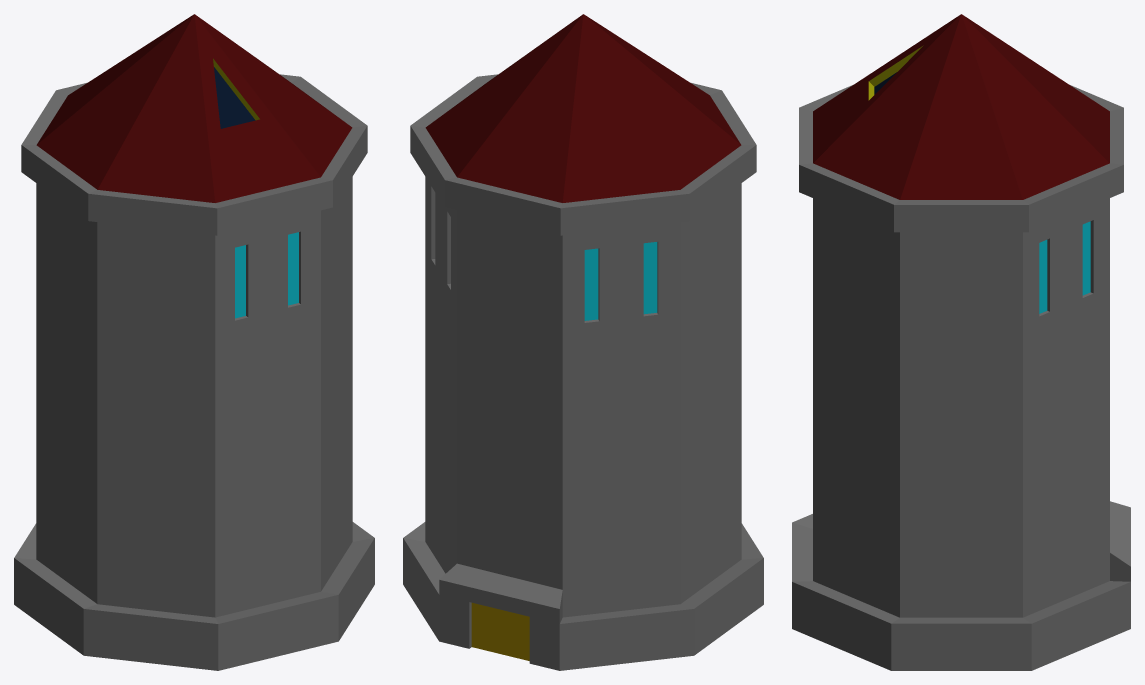
The model's file is tower6.obj.
3 views of the same model, side by side, from view 1: azimuth 30°, elevation 25°; view 2: azimuth 150°, elevation 25°; view 3: azimuth 270°, elevation 25° (orthographic).
Parts seen in each view (by area): view 1: tower_Cylinder.001, roff_Cylinder.003, window_Cylinder.000, topWindaw_Cylinder.002; view 2: tower_Cylinder.001, roff_Cylinder.003, door_Cylinder.005, window_Cylinder.000; view 3: tower_Cylinder.001, roff_Cylinder.003, window_Cylinder.000.
Boxes of the visible parts, box(x1,y1,x2,y2) form: tower_Cylinder.001: box(14, 74, 374, 670); roff_Cylinder.003: box(36, 14, 352, 202); window_Cylinder.000: box(235, 232, 298, 318); topWindaw_Cylinder.002: box(214, 67, 255, 128); tower_Cylinder.001: box(403, 74, 763, 670); roff_Cylinder.003: box(425, 14, 741, 202); door_Cylinder.005: box(471, 602, 529, 660); window_Cylinder.000: box(584, 242, 657, 320); tower_Cylinder.001: box(792, 84, 1130, 670); roff_Cylinder.003: box(813, 14, 1109, 199); window_Cylinder.000: box(1039, 221, 1090, 313).
Bounding box in the file's own units: 1.05 × 2.01 × 1.05.
